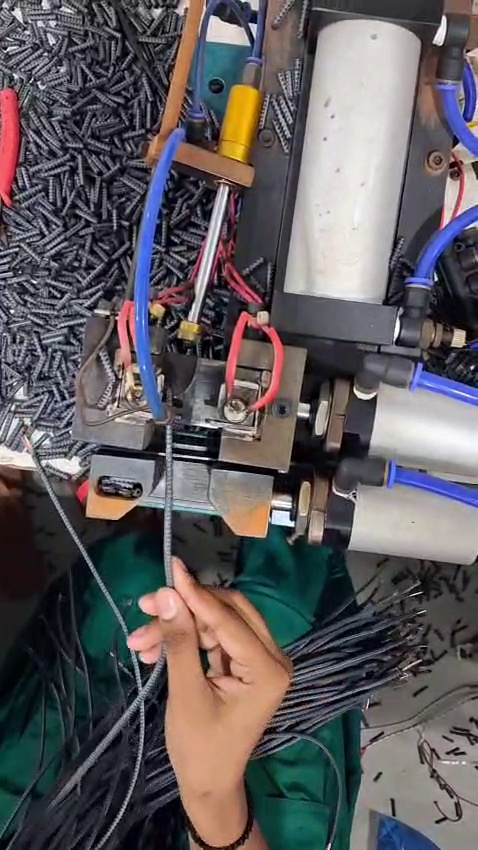intact_wire: (146, 410, 197, 510)
machine: (55, 301, 315, 548)
peeled_wire: (12, 427, 58, 490)
